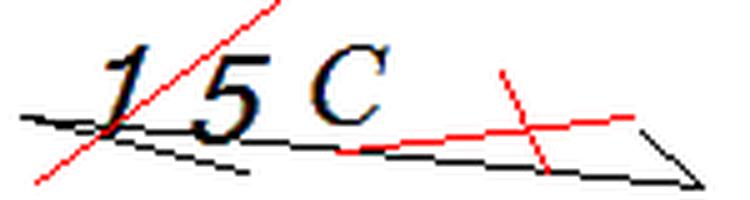1: (90, 38, 161, 150)
5: (186, 44, 276, 152)
C: (303, 37, 406, 131)
